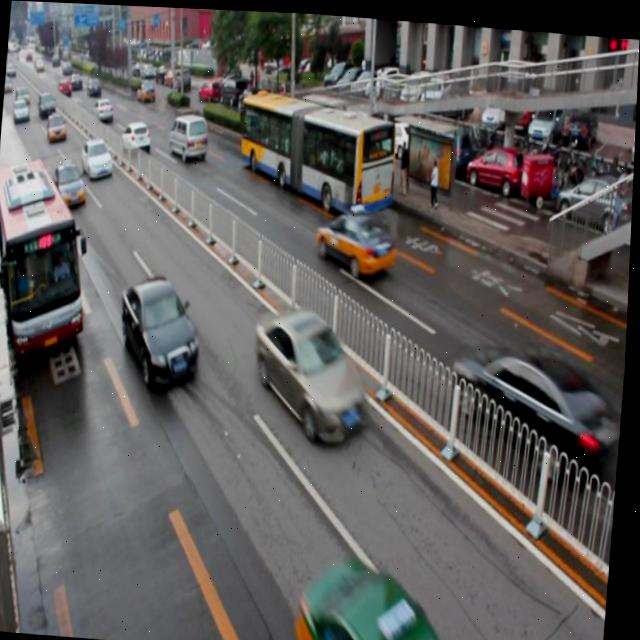car: (447, 337, 625, 476), (250, 299, 373, 443), (296, 555, 474, 640), (118, 270, 206, 390), (313, 198, 398, 278), (52, 156, 90, 207), (82, 134, 115, 178), (120, 117, 154, 152)
truck: (167, 109, 210, 160)
van: (232, 81, 400, 215), (0, 157, 96, 354)
